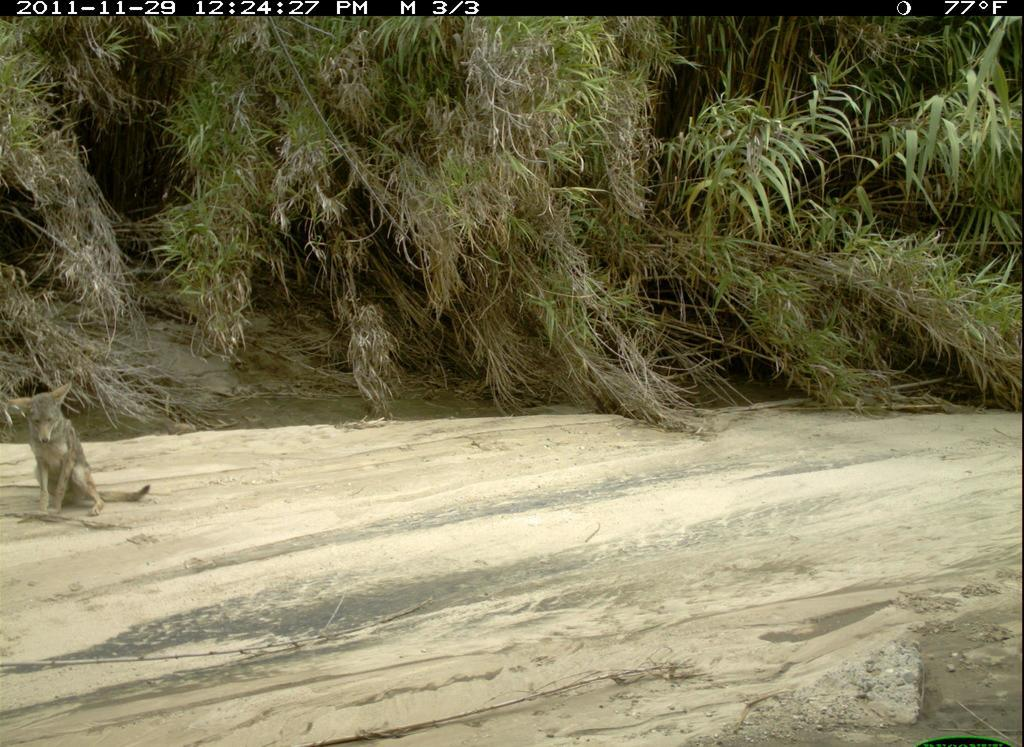coyote: (13, 379, 157, 541)
